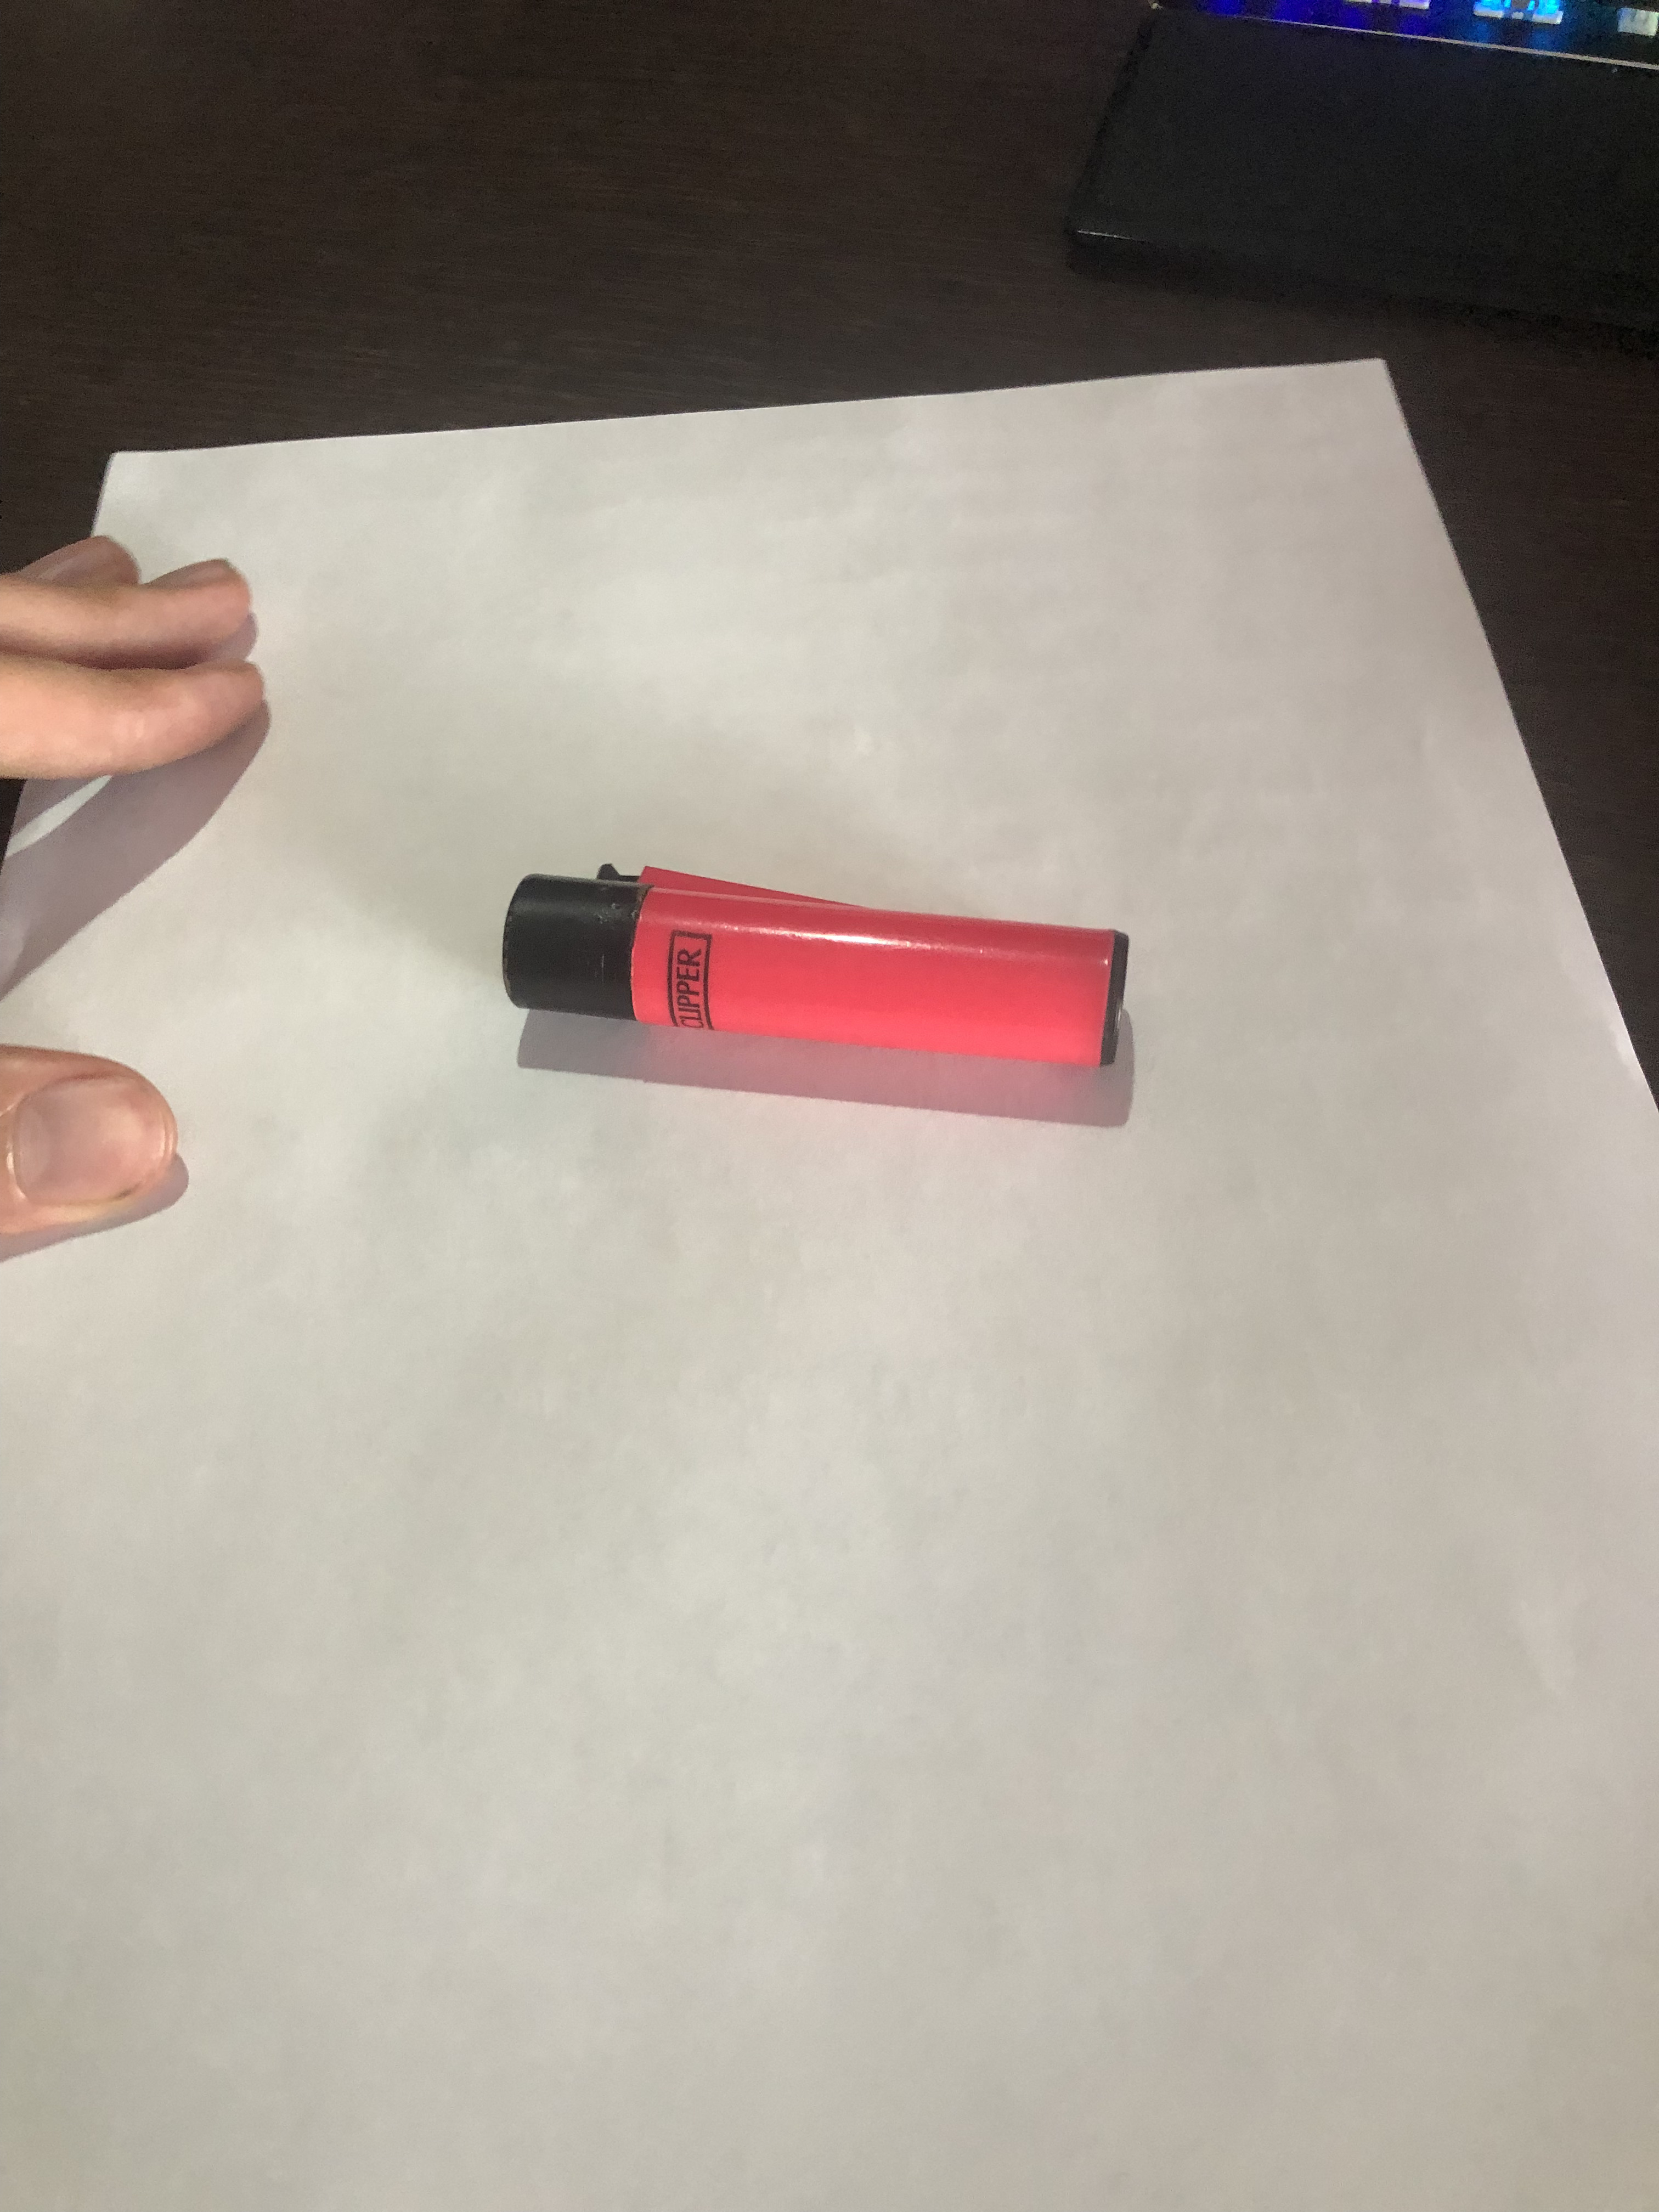Mechero: (504, 846, 1134, 1129)
